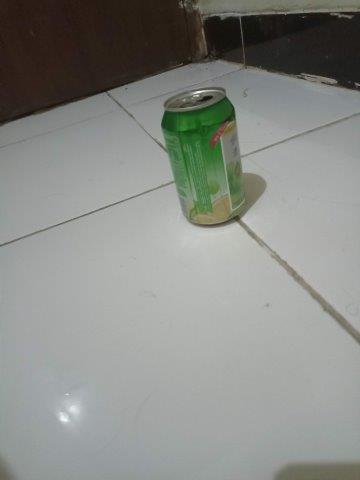kaleng: (162, 87, 245, 227)
